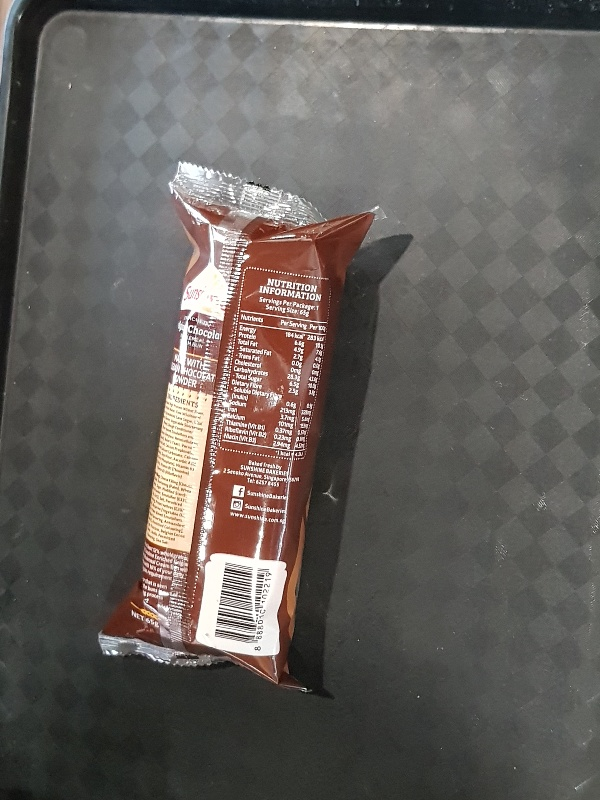Sunshine Belgium Chocolate Wholemeal Cream Bun: (94, 157, 382, 694)
